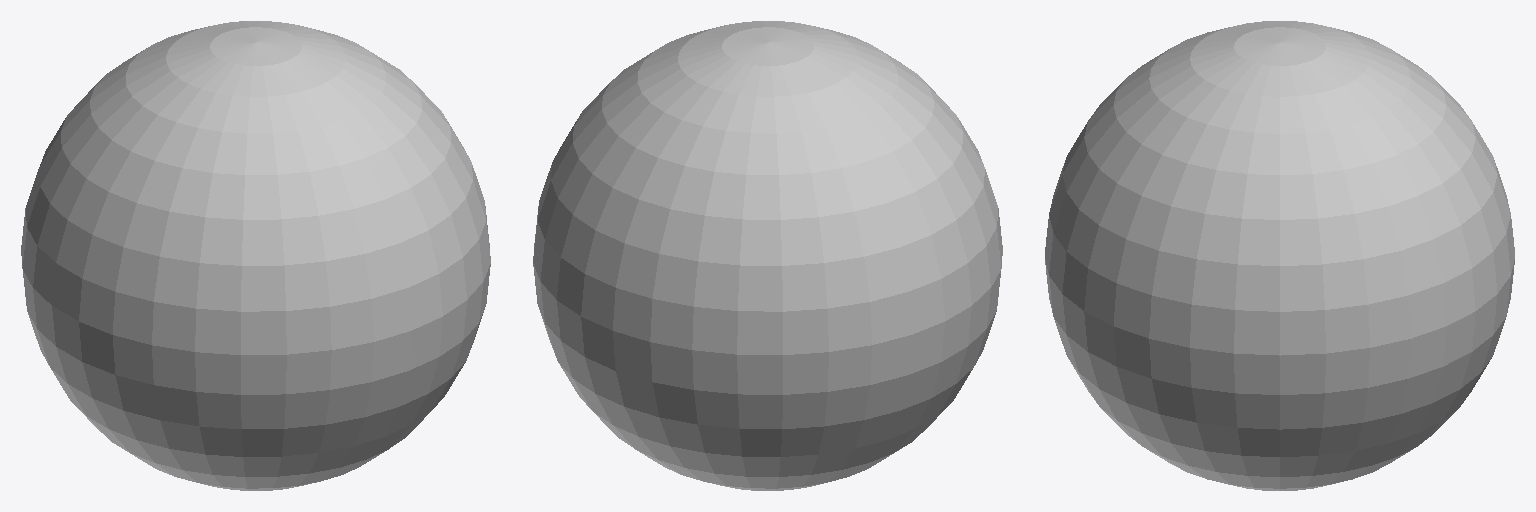
File: Earth.obj
3 renders of one model, left to right at view 1: azimuth 30°, elevation 25°; view 2: azimuth 150°, elevation 25°; view 3: azimuth 270°, elevation 25°, orthographic.
Parts seen in each view (by area): view 1: node-0_buffer-0-mesh-0; view 2: node-0_buffer-0-mesh-0; view 3: node-0_buffer-0-mesh-0.
Boxes of the visible parts, box(x1,y1,x2,y2) form: node-0_buffer-0-mesh-0: box(21, 21, 490, 490); node-0_buffer-0-mesh-0: box(533, 21, 1002, 490); node-0_buffer-0-mesh-0: box(1045, 21, 1514, 490).
Bounding box in the file's own units: 97.17 × 97.17 × 97.17.